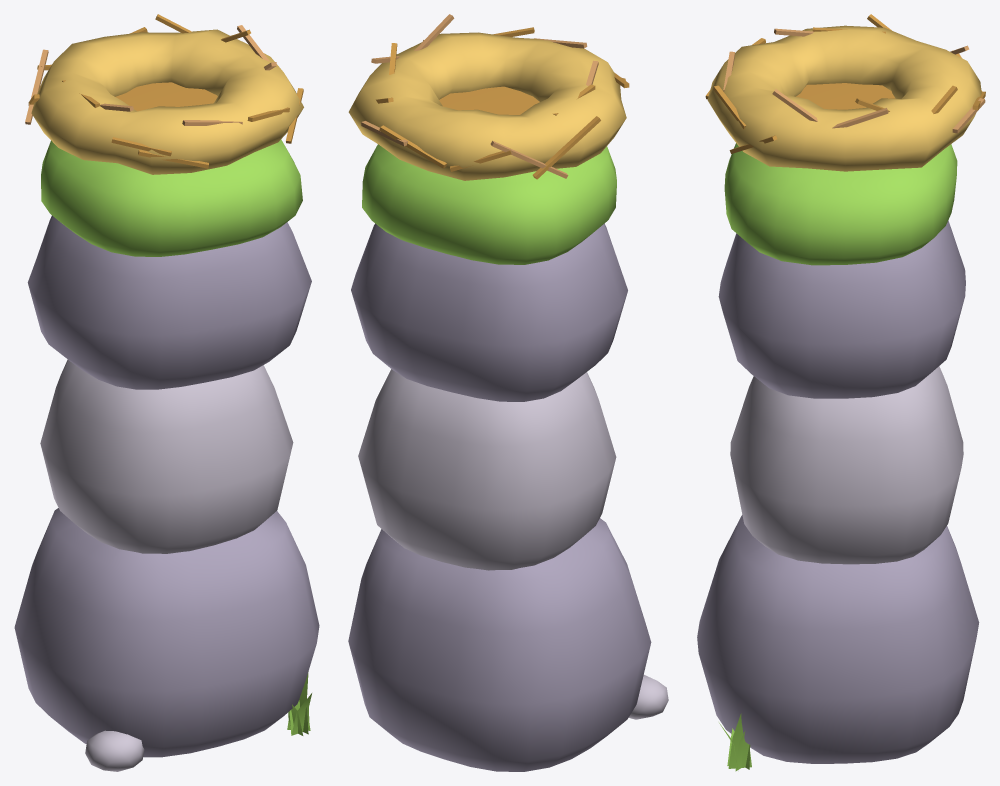
File: prop_nest_pillar.glb
The picture shows the model from 3 angles, left to right: view 1: azimuth 30°, elevation 25°; view 2: azimuth 150°, elevation 25°; view 3: azimuth 270°, elevation 25°; orthographic projection. The views are drawn at different scales.
Visible parts, largest first — view 1: prop_nest_pillar; view 2: prop_nest_pillar; view 3: prop_nest_pillar.
Boxes of the visible parts, x1,y1,x2,y2 form: prop_nest_pillar: [14, 14, 319, 771]; prop_nest_pillar: [348, 14, 668, 771]; prop_nest_pillar: [697, 14, 985, 771].
Size of the model in its own units: 0.9307 by 2.32 by 0.9029.
